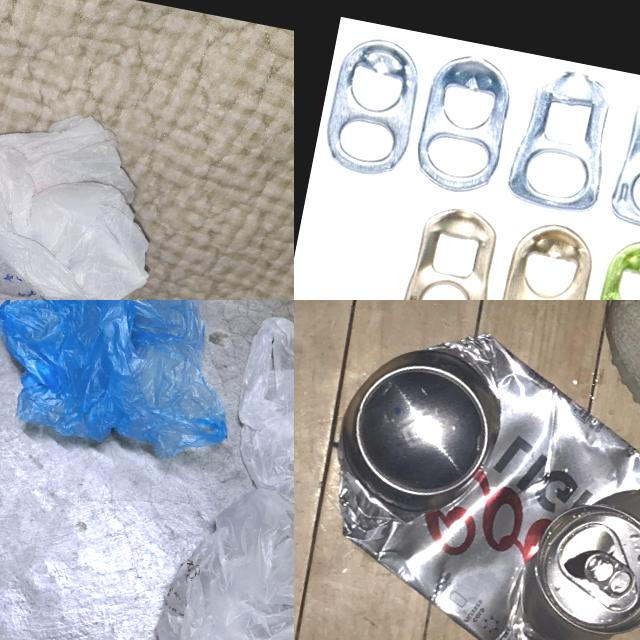aba de lata: (503, 60, 622, 216), (318, 32, 431, 182), (410, 48, 518, 198), (394, 201, 507, 300), (492, 216, 599, 300), (606, 84, 640, 235), (586, 232, 640, 300), (578, 549, 638, 602)
lata: (298, 309, 640, 640)
sacola plástica: (0, 300, 264, 472), (0, 49, 178, 300), (119, 468, 294, 640), (217, 300, 294, 559)
